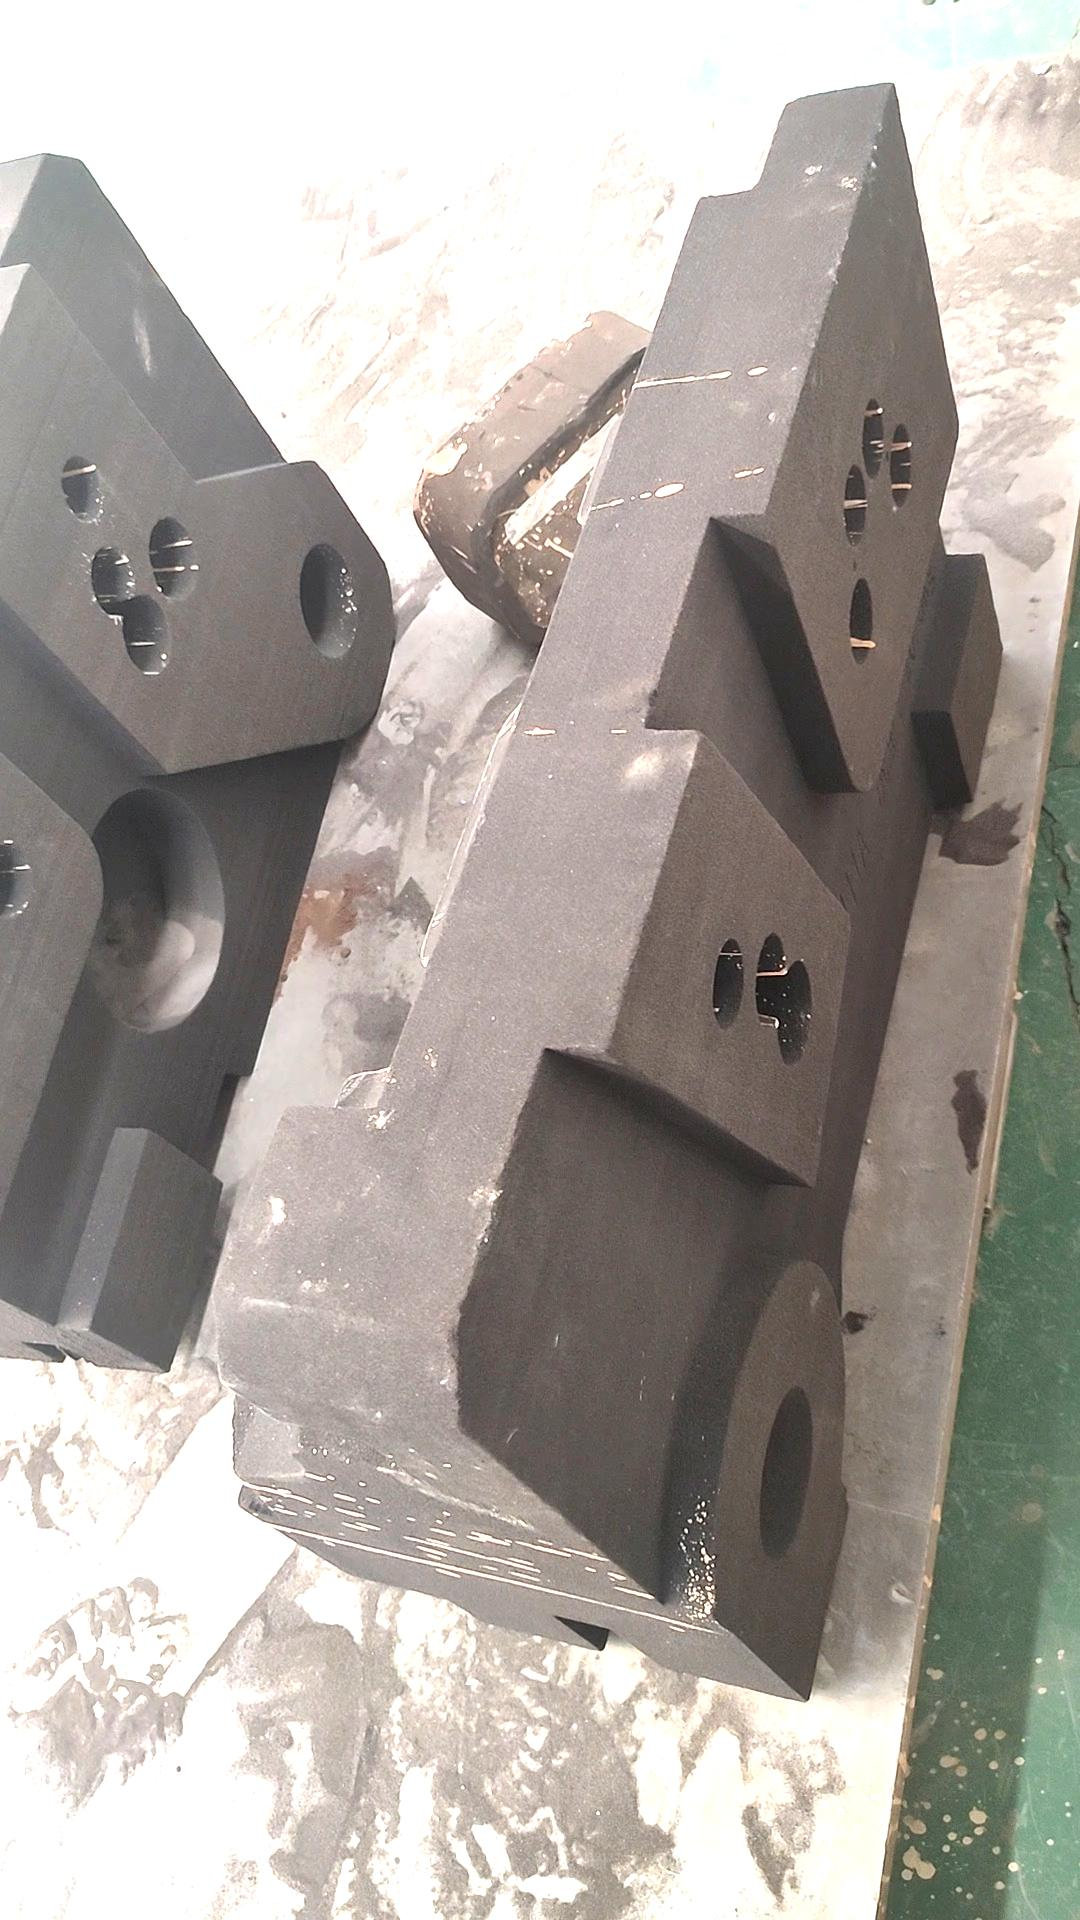pouring hole: (761, 1387, 812, 1557), (301, 543, 357, 658)
